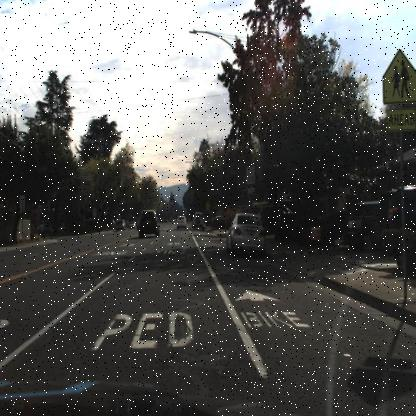car: (346, 197, 398, 255), (376, 184, 416, 258), (223, 210, 269, 256), (136, 204, 161, 240), (136, 207, 161, 241), (190, 208, 206, 234), (174, 211, 188, 232), (113, 216, 126, 233)
